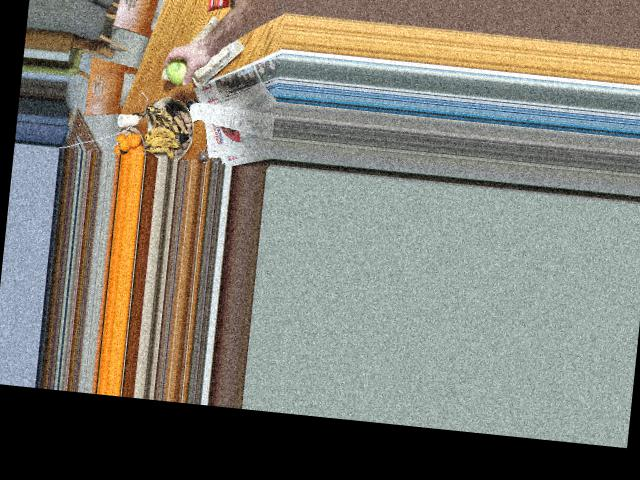apple: (162, 52, 193, 86)
